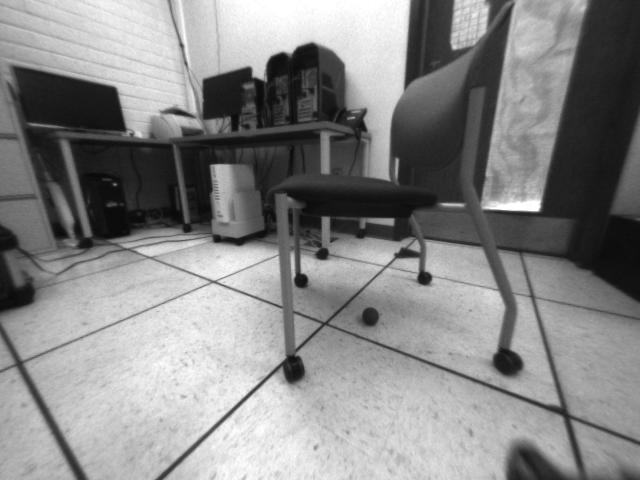dogtoy: (358, 303, 384, 330)
